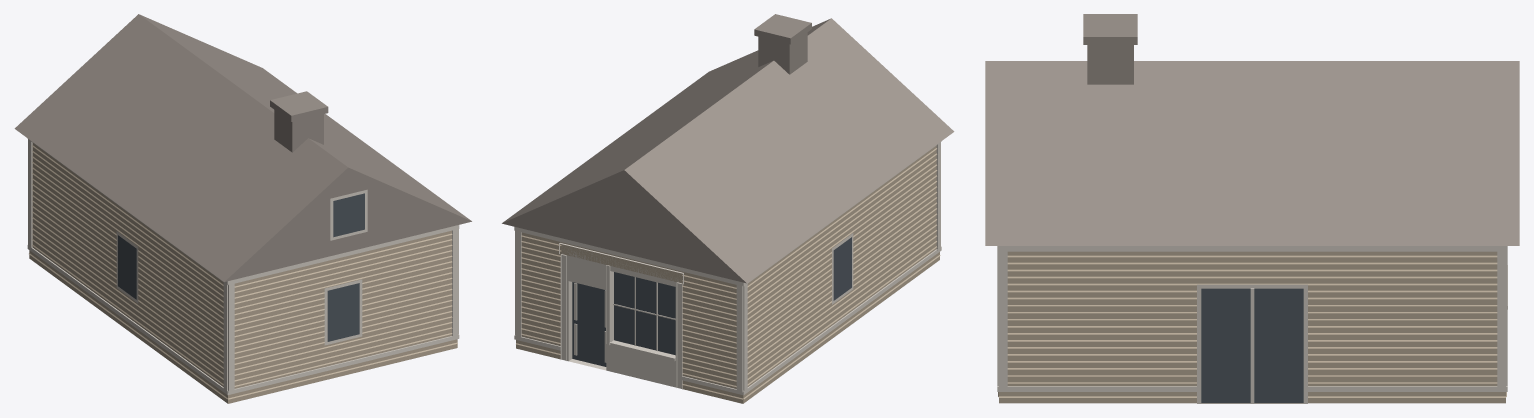
File: inf_grocery_west__inferred_1835.glb
3 views of the same model, side by side, from view 1: azimuth 30°, elevation 25°; view 2: azimuth 150°, elevation 25°; view 3: azimuth 270°, elevation 25° (orthographic). The views are drawn at different scales.
Parts seen in each view (by area): view 1: inf_grocery_west__inferred_1835; view 2: inf_grocery_west__inferred_1835; view 3: inf_grocery_west__inferred_1835.
Part boxes in pixels (x1,y1,x2,y2): inf_grocery_west__inferred_1835: (14,14,471,403); inf_grocery_west__inferred_1835: (502,14,954,403); inf_grocery_west__inferred_1835: (985,14,1519,403).
Size of the model in its own units: 6.6 by 6.1 by 9.68.
